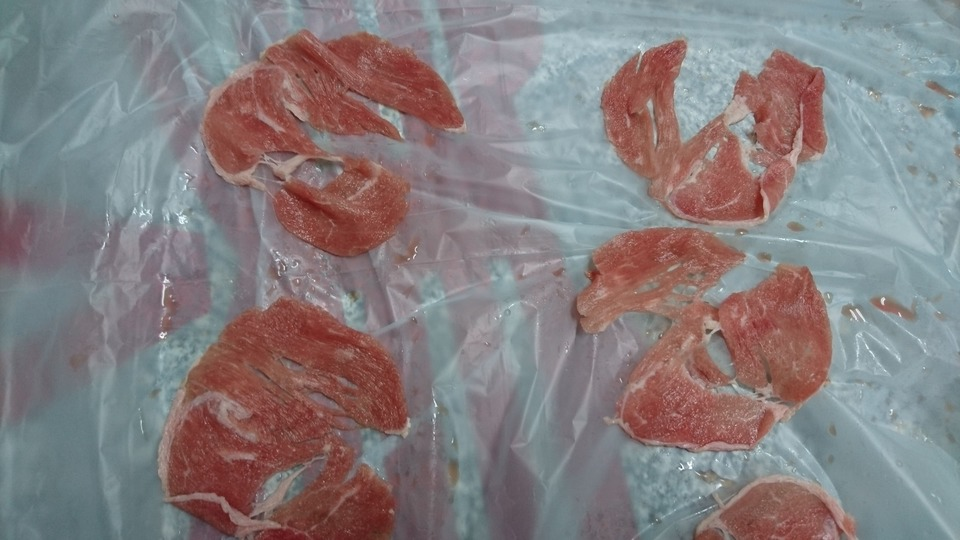restructured meat: (547, 232, 826, 454), (163, 304, 414, 540), (204, 23, 445, 254), (580, 31, 806, 222), (691, 484, 860, 540)
